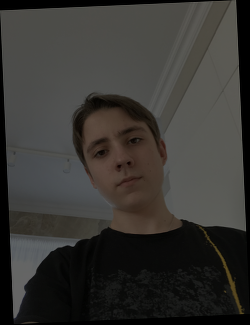without_mask: (83, 122, 164, 214)
